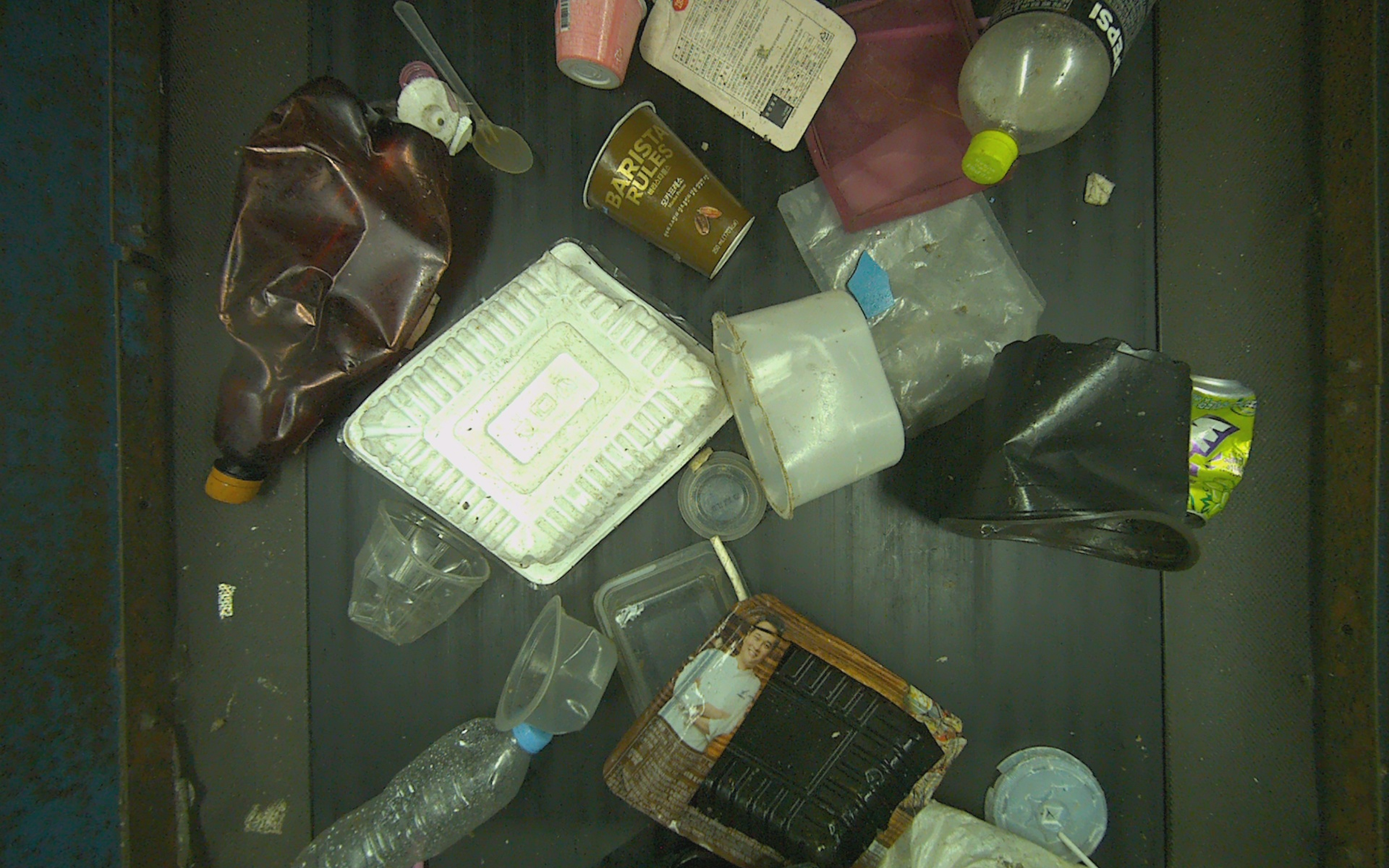PET: (204, 75, 453, 503), (291, 717, 553, 868)
PET-C: (347, 498, 490, 646)
PP-B: (604, 606, 959, 868), (939, 334, 1200, 572)
